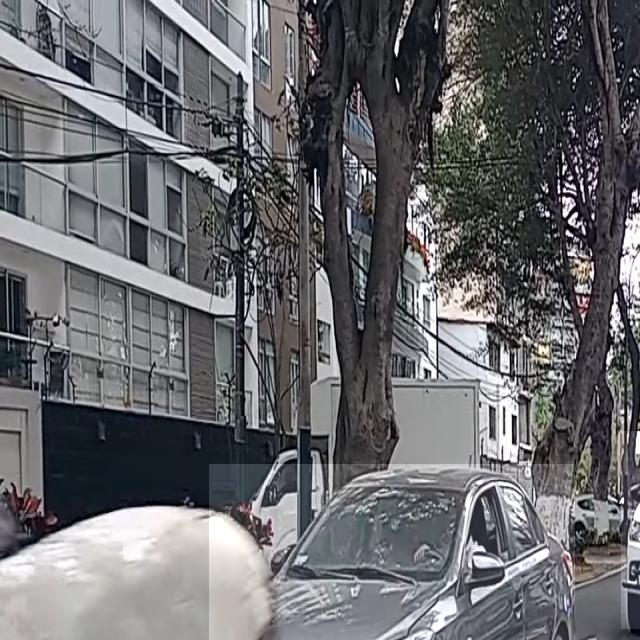car: (209, 464, 575, 640), (621, 432, 640, 630)
